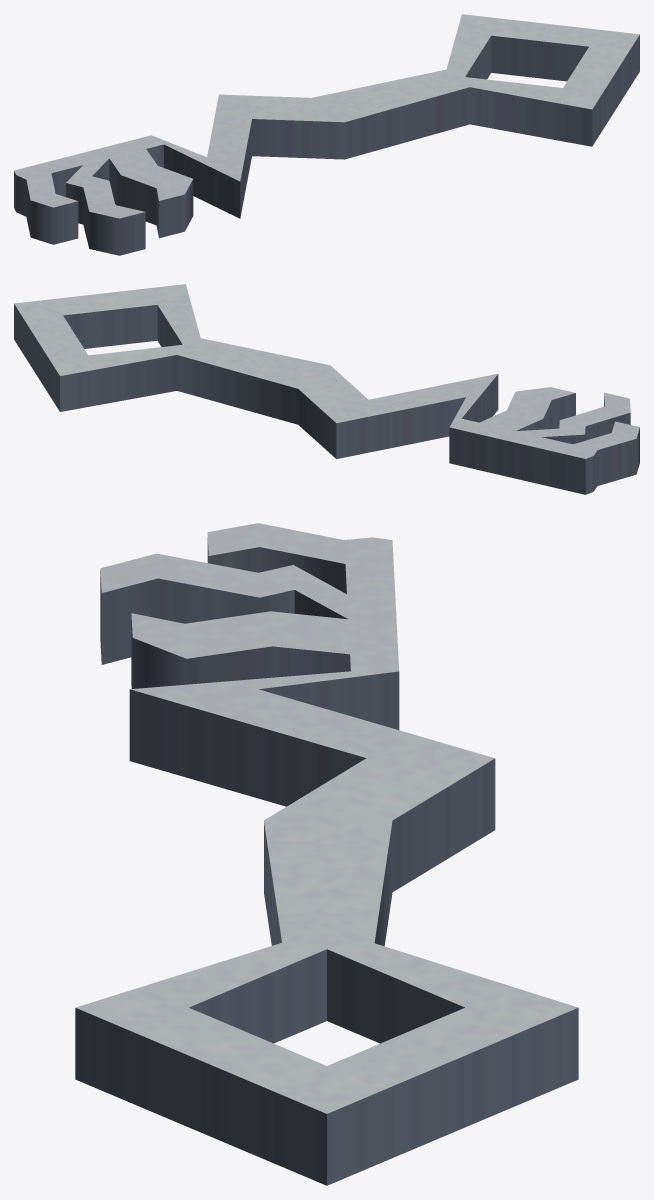
The model's file is Key.fbx.
3 renders of one model, top to bottom at view 1: azimuth 30°, elevation 25°; view 2: azimuth 150°, elevation 25°; view 3: azimuth 270°, elevation 25°, orthographic. The views are drawn at different scales.
Visible parts, largest first — view 1: Plane.001; view 2: Plane.001; view 3: Plane.001.
Boxes of the visible parts, bbox=[...] form: Plane.001: bbox=[14, 14, 639, 255]; Plane.001: bbox=[14, 284, 639, 494]; Plane.001: bbox=[75, 523, 578, 1185].
Bounding box in the file's own units: 786 × 44.56 × 283.
